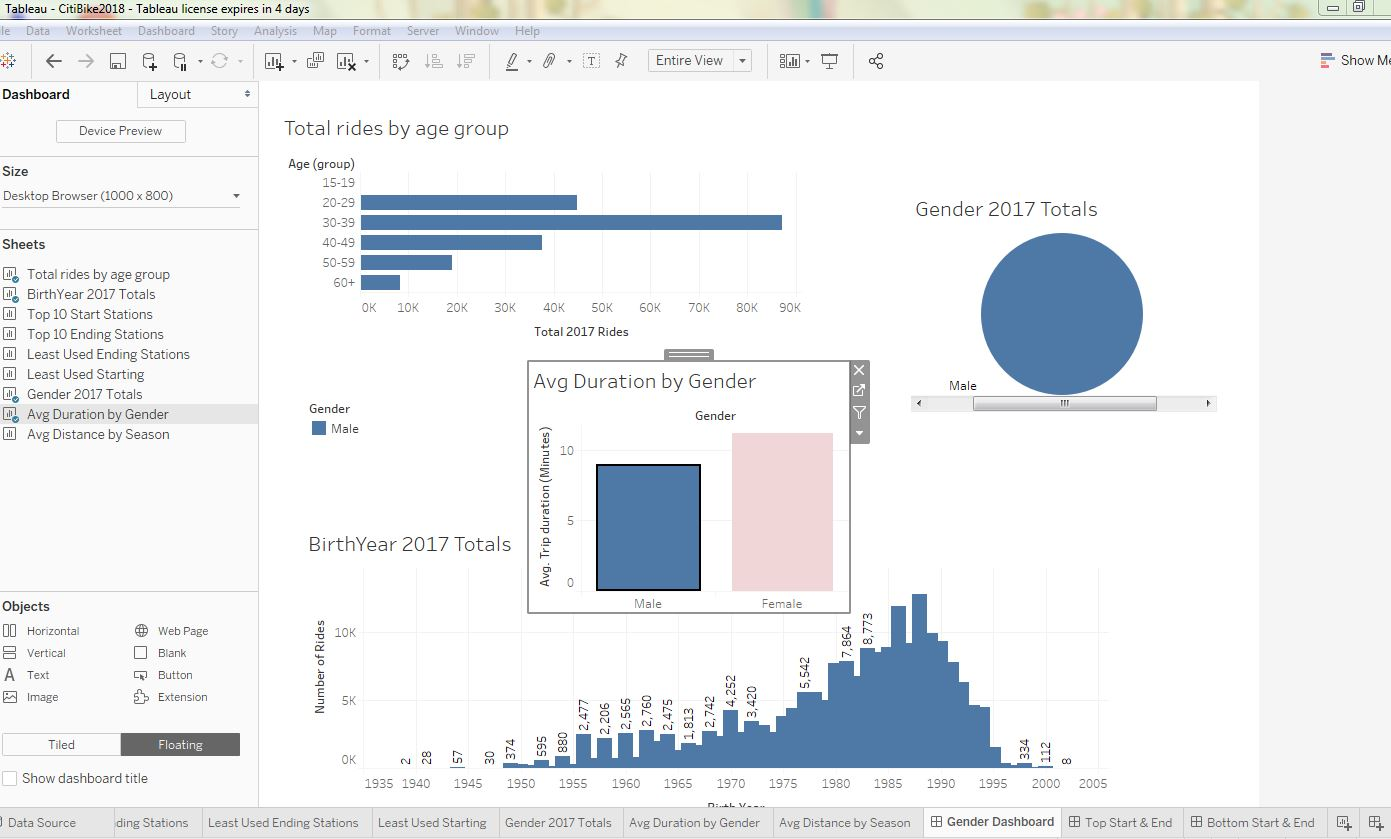

Layout of this report page (visuals, bound fields, positions):
{"tool":"tableau","page":{"name":"Gender Dashboard","canvas":[1000,800],"ordinal":1},"visuals":[{"type":"worksheet","title":"Total rides by age group","mark":"Automatic","cols":["Number of Records"],"box":[21,38,523,306]},{"type":"worksheet","title":"Gender 2017 Totals","mark":"Pie","box":[652,119,306,228]},{"type":"worksheet","title":"Avg Duration by Gender","mark":"Automatic","rows":["Calculation_131730309613129728"],"cols":["gender"],"box":[270,291,320,250]},{"type":"legend","title":"Total rides by age group","param":"[federated.0e7hpmo1rsmxcw1aq7kue1a3j1ir].[none:gender:ok]","box":[50,329,106,73]},{"type":"worksheet","title":"BirthYear 2017 Totals","mark":"Bar","rows":["Number of Records"],"cols":["birth year"],"box":[45,454,805,298]}]}

Visuals, with their boxes on the page's 1000x800 design canvas (x1, y1, x2, y2). These are canvas units, not pixel positions in the 1391x839 screenshot, which may show the page scaled, cropped or inside an application window:
"Total rides by age group" worksheet: [left=21, top=38, right=544, bottom=344]
"Gender 2017 Totals" worksheet (Pie marks): [left=652, top=119, right=958, bottom=347]
"Avg Duration by Gender" worksheet: [left=270, top=291, right=590, bottom=541]
"Total rides by age group" legend: [left=50, top=329, right=156, bottom=402]
"BirthYear 2017 Totals" worksheet (Bar marks): [left=45, top=454, right=850, bottom=752]
